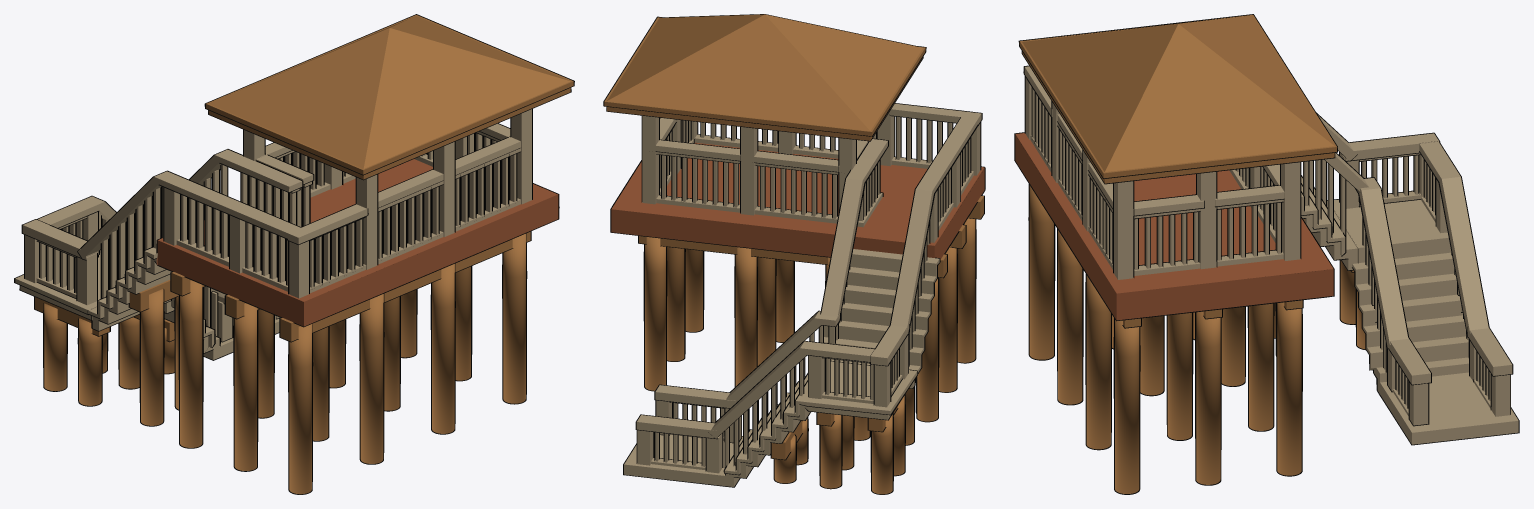
The model's file is building03.glb.
3 views of the same model, side by side, from view 1: azimuth 30°, elevation 25°; view 2: azimuth 150°, elevation 25°; view 3: azimuth 270°, elevation 25° (orthographic). The views are drawn at different scales.
Visible parts, largest first — view 1: Plane.002, Plane.003, Plane.004, Plane.005; view 2: Plane.002, Plane.003, Plane.004, Plane.005; view 3: Plane.002, Plane.003, Plane.004, Plane.005.
Boxes of the visible parts, x1,y1,x2,y2 form: Plane.002: (14,109,532,360); Plane.003: (34,231,531,494); Plane.004: (204,14,574,180); Plane.005: (156,159,559,327); Plane.002: (623,103,982,487); Plane.003: (638,195,984,494); Plane.004: (603,14,926,141); Plane.005: (610,142,985,261); Plane.002: (1023,65,1519,445); Plane.003: (1028,184,1372,494); Plane.004: (1018,14,1337,184); Plane.005: (1014,132,1334,321).
Bounding box in the file's own units: 7.91 × 7.07 × 7.85.
